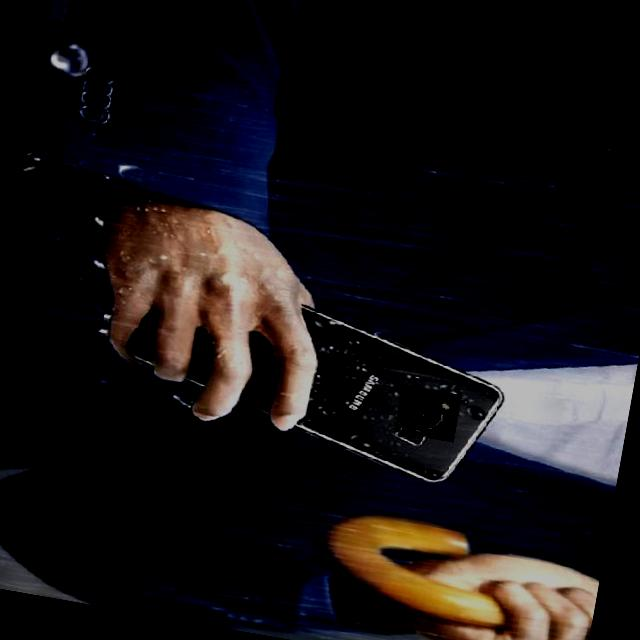lens_back: (394, 386, 459, 440)
phone: (114, 267, 516, 491)
